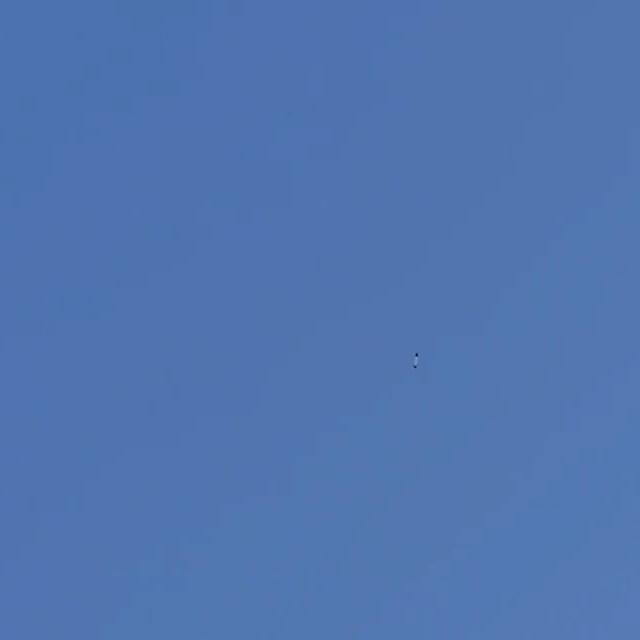rocket: (412, 354, 419, 371)
